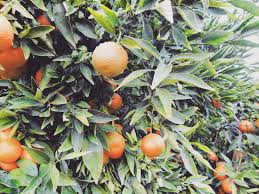orange: (90, 41, 129, 79), (140, 132, 166, 159), (102, 130, 127, 158), (1, 137, 20, 164)
